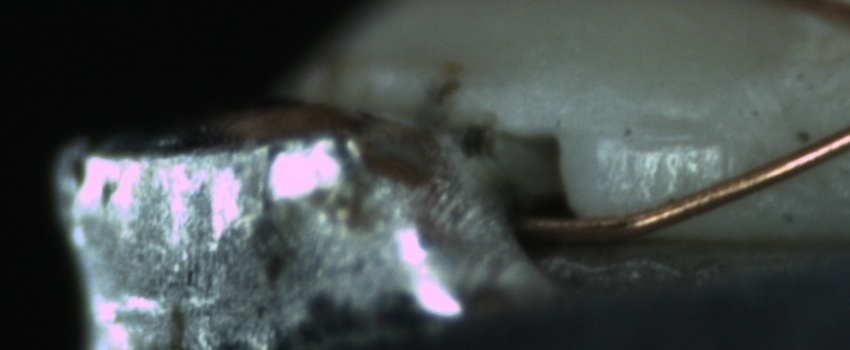DL: (591, 104, 730, 171)
